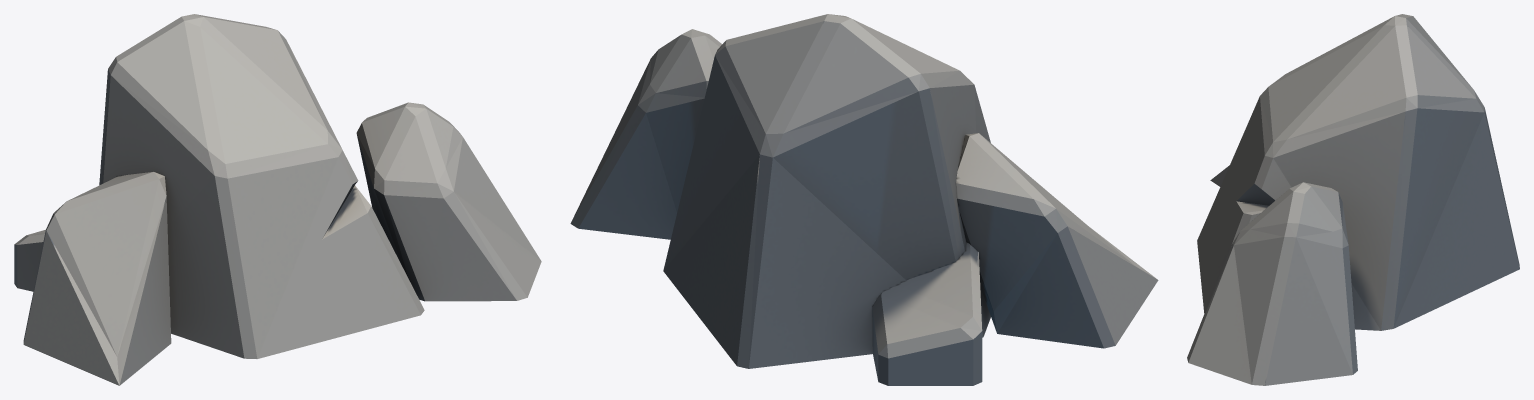
The model's file is ROCASS.gltf.
The picture shows the model from 3 angles, left to right: view 1: azimuth 30°, elevation 25°; view 2: azimuth 150°, elevation 25°; view 3: azimuth 270°, elevation 25°; orthographic projection. The views are drawn at different scales.
Visible parts, largest first — view 1: node-0; view 2: node-0; view 3: node-0.
Boxes of the visible parts, x1,y1,x2,y2 form: node-0: (14, 14, 541, 385); node-0: (570, 14, 1158, 385); node-0: (1187, 14, 1519, 385).
Size of the model in its own units: 2.01 by 1.02 by 1.29.
Materials: 1 (1 with a texture image).
